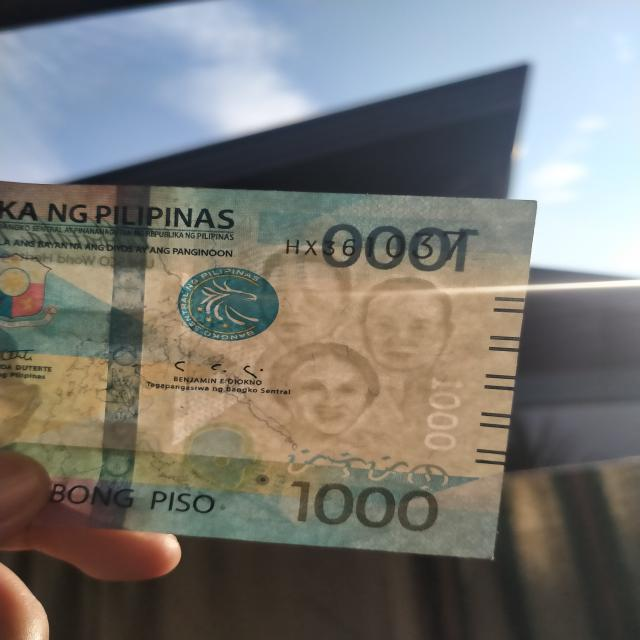security_thread: (87, 181, 153, 530)
see_through_mark: (274, 444, 450, 495)
serial_number: (276, 229, 469, 260)
value_watermark: (418, 370, 467, 451)
watermark: (229, 242, 466, 463)
